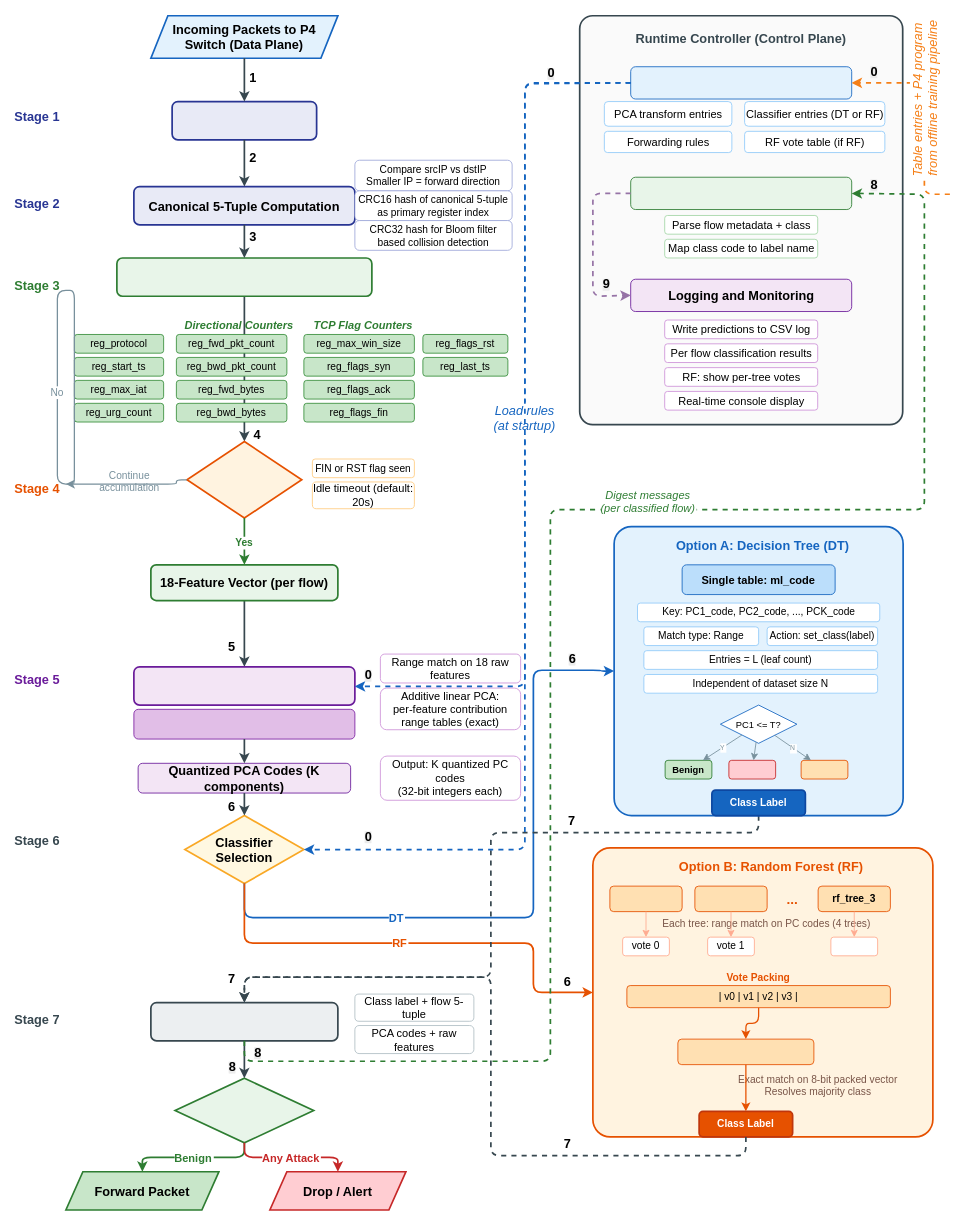
The diagram is 972 pixels wide and 1225 high, and some of its shapes have lost their labels. The centre of each missing label's shape, as x and y in pixels:
Digest Generation: [244,1021]
DoS: [752,769]
Flow Finalized?: [244,479]
Forwarding Decision: [244,1110]
Load Table Entries via gRPC: [741,82]
Packet Parser: [244,120]
PCA Feature Extraction: [244,686]
pca_component1 ... pca_componentK: [244,723]
Receive Digests from Switch: [741,193]
Recon: [824,769]
Register-Based Flow Feature Accumulation: [244,277]
rf_tree_0: [645,898]
rf_tree_1: [730,898]
rf_vote_classify: [745,1051]
vote 3: [854,946]
